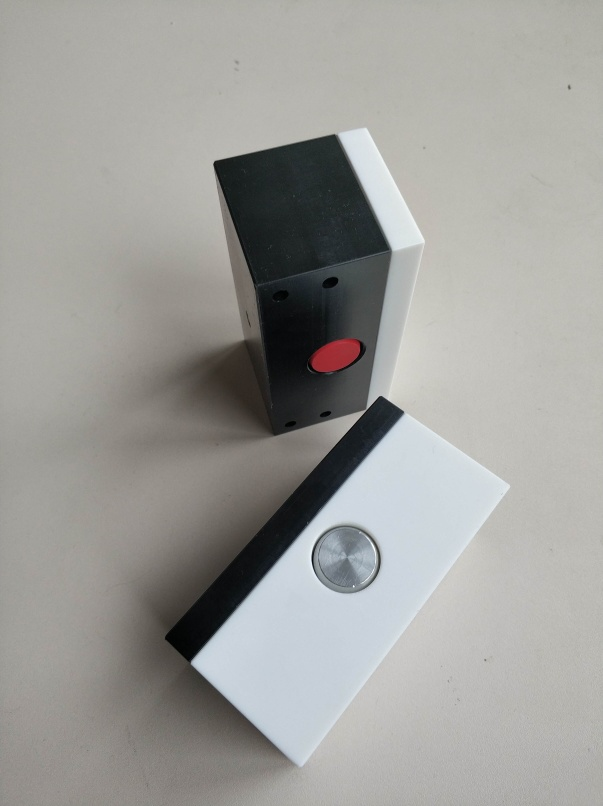black+white+silver: (161, 394, 514, 775)
white+black+red: (209, 123, 426, 439)
